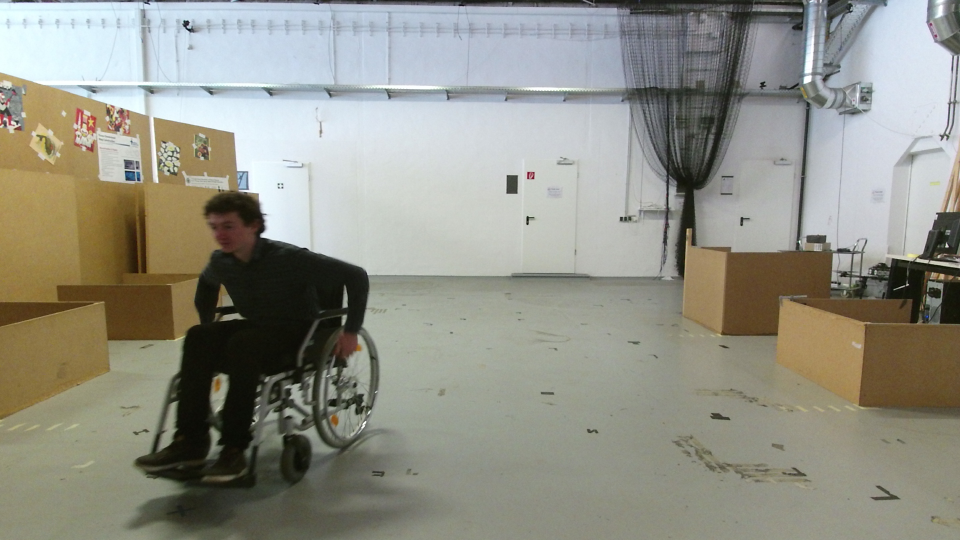wheelchair: (129, 183, 383, 493)
